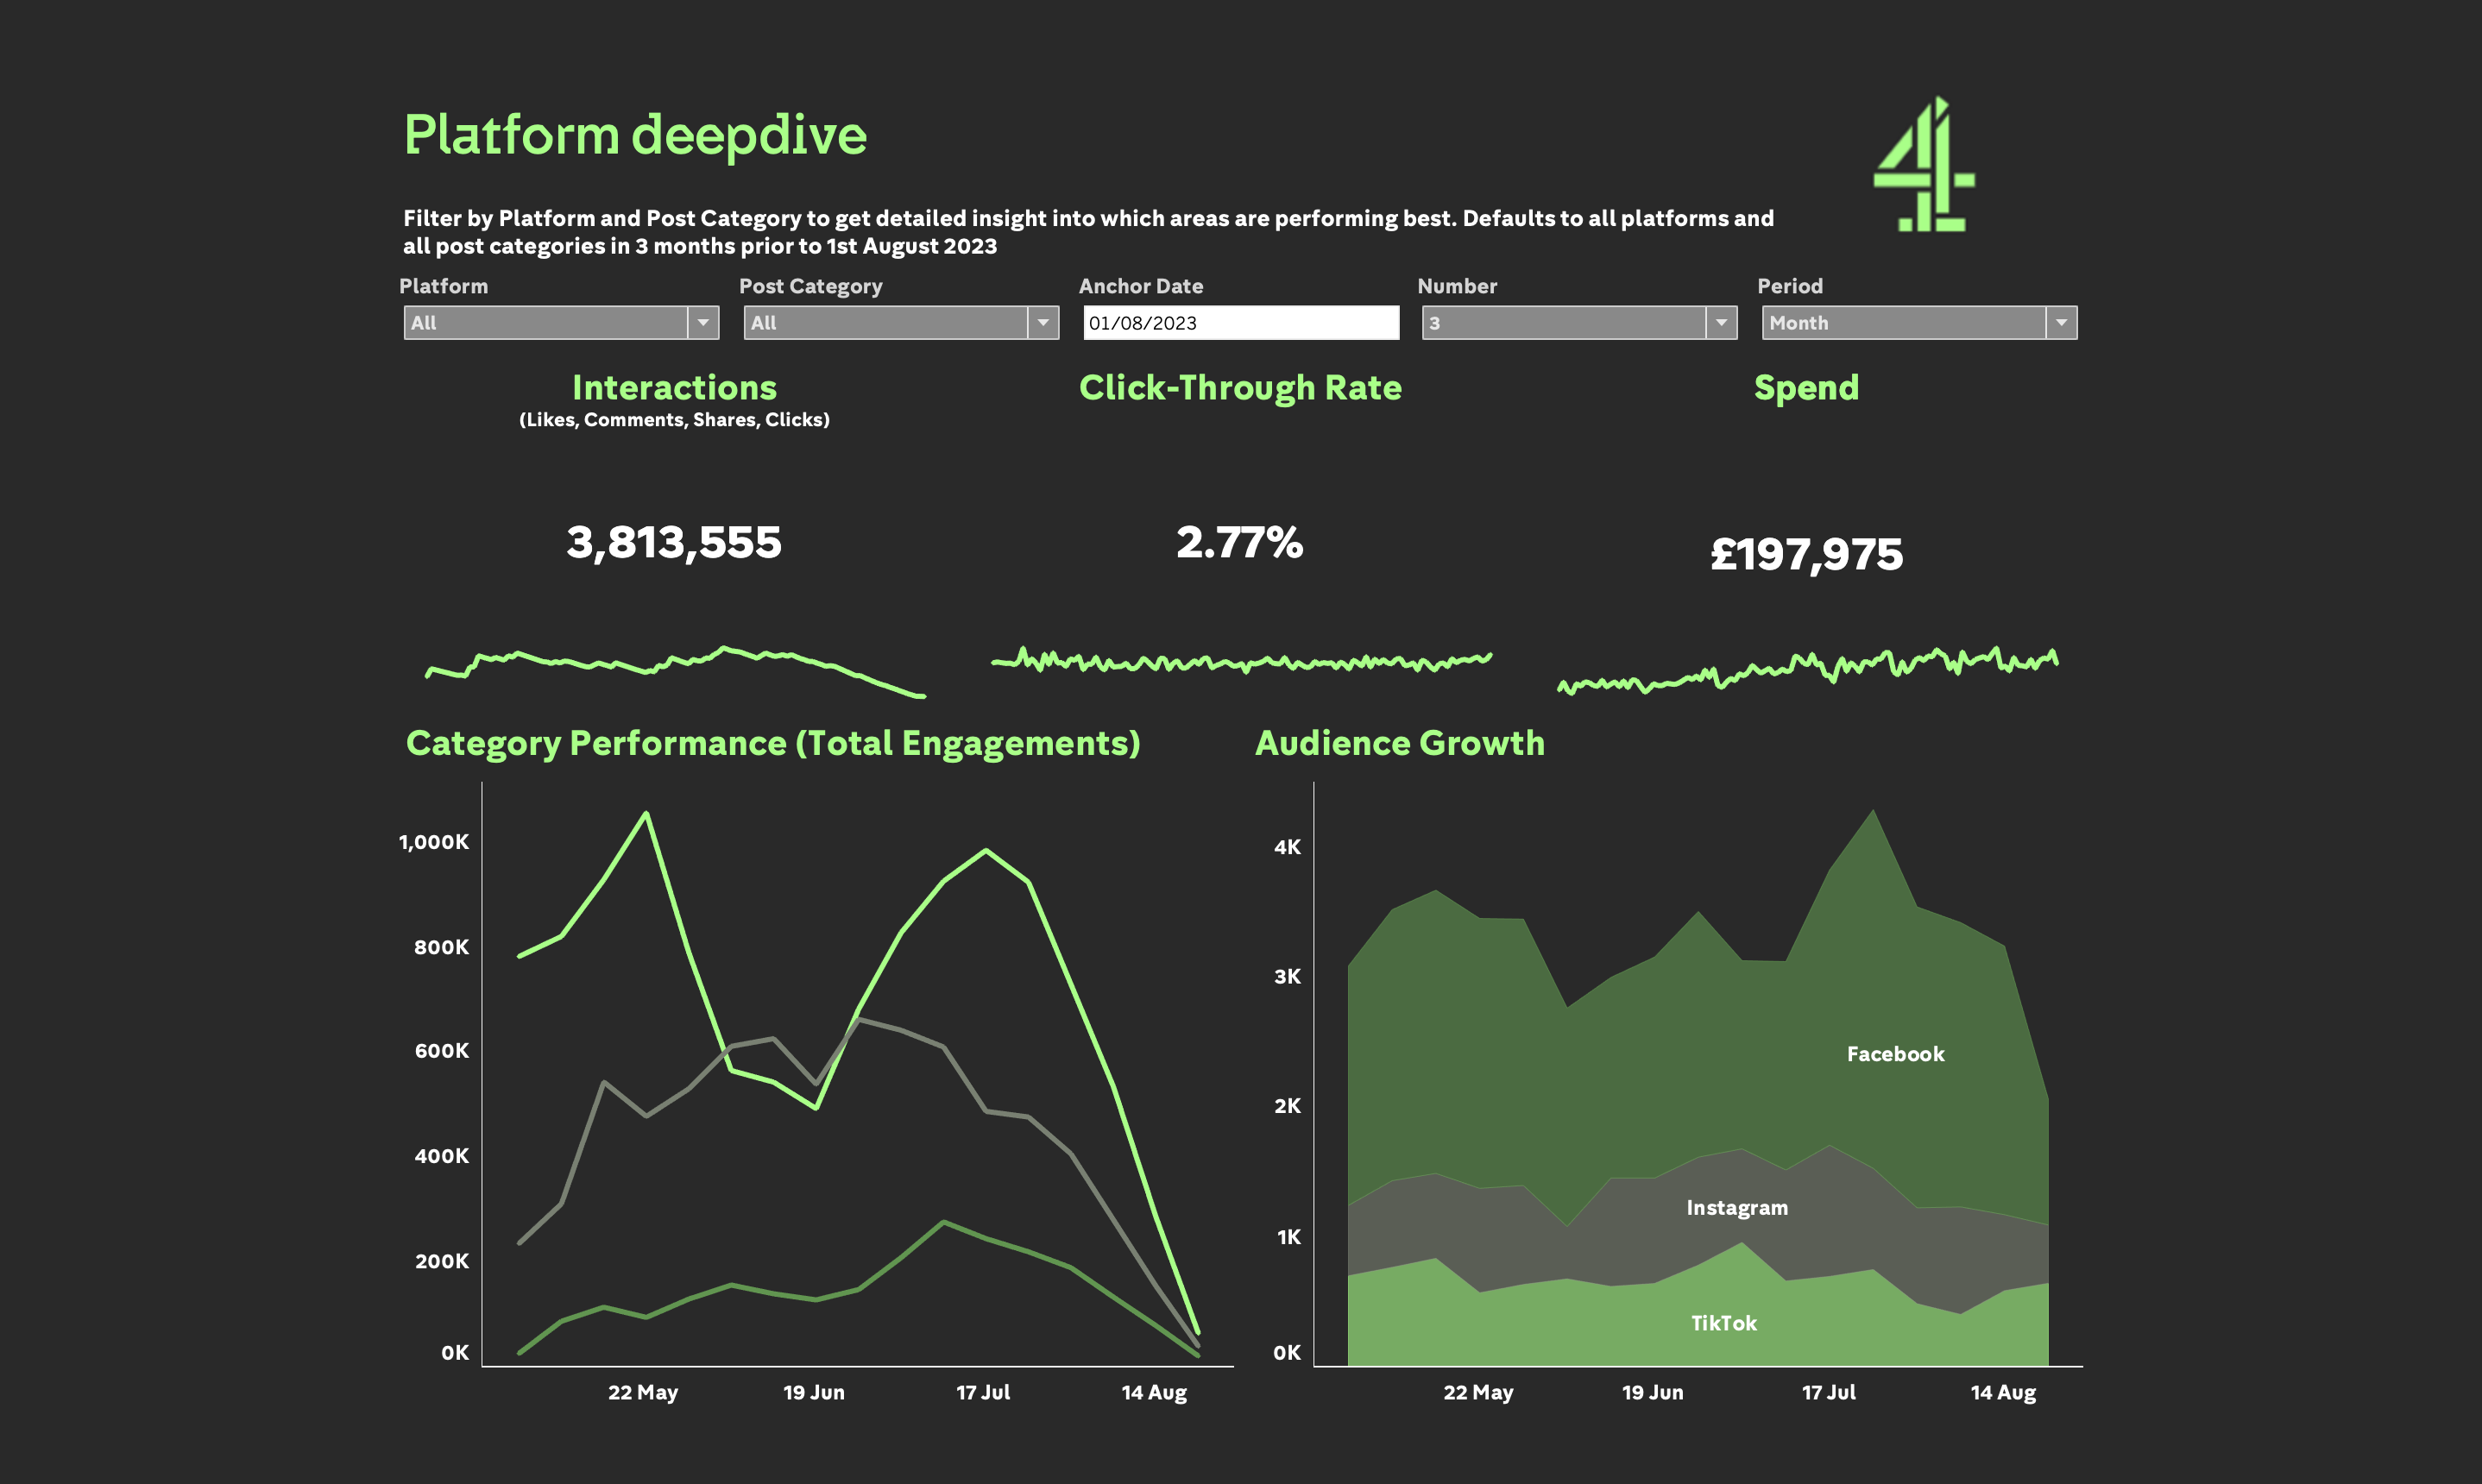

The dashboard page shown, as its layout file describes it:
{"tool":"tableau","page":{"name":"Dashboard 2","canvas":[1000,800],"ordinal":1},"visuals":[{"type":"title","box":[8,8,821,73]},{"type":"image","param":"/Users/patrick/Documents/Data Materials/Extra work/Social Media Dashboard/Screen","box":[829,8,163,112]},{"type":"text","box":[8,81,821,39]},{"type":"parameter","param":"[Parameters].[Platform Parameter]","box":[8,120,196.8,50]},{"type":"parameter","param":"[Parameters].[Parameter 1]","box":[204.8,120,196.8,50]},{"type":"parameter","param":"[Parameters].[Parameter 2]","box":[401.6,120,196.8,50]},{"type":"parameter","param":"[Parameters].[Parameter 3]","box":[598.4,120,196.8,50]},{"type":"parameter","param":"[Parameters].[Parameter 4]","box":[795.2,120,196.8,50]},{"type":"worksheet","title":"Interactions","mark":"Automatic","box":[8,170,328,164]},{"type":"worksheet","title":"Click-Through Rate","mark":"Automatic","box":[336,170,328,164]},{"type":"worksheet","title":"Spend","mark":"Automatic","box":[664,170,328,164]},{"type":"worksheet","title":"Sparkline (interactions)","mark":"Line","rows":["Calculation_2692871167140438017"],"cols":["date"],"box":[8,334,328,42]},{"type":"worksheet","title":"Sparkline (click-through rate)","mark":"Line","rows":["ctr"],"cols":["date"],"box":[336,334,328,42]},{"type":"worksheet","title":"Sparkline (spend)","mark":"Line","rows":["spend"],"cols":["date"],"box":[664,334,328,42]},{"type":"worksheet","title":"Category Performance (Total Engagements)","mark":"Automatic","rows":["Calculation_1504061602633113600"],"cols":["date"],"box":[8,376,492,416]},{"type":"worksheet","title":"Audience Growth","mark":"Area","rows":["new_users"],"cols":["date"],"box":[500,376,492,416]}]}

Visuals, with their boxes on the page's 1000x800 design canvas (x1, y1, x2, y2). These are canvas units, not pixel positions in the 2482x1484 screenshot, which may show the page scaled, cropped or inside an application window:
title: 8, 8, 829, 81
image: 829, 8, 992, 120
text: 8, 81, 829, 120
parameter: 8, 120, 205, 170
parameter: 205, 120, 402, 170
parameter: 402, 120, 598, 170
parameter: 598, 120, 795, 170
parameter: 795, 120, 992, 170
"Interactions" worksheet: 8, 170, 336, 334
"Click-Through Rate" worksheet: 336, 170, 664, 334
"Spend" worksheet: 664, 170, 992, 334
"Sparkline (interactions)" worksheet (Line marks): 8, 334, 336, 376
"Sparkline (click-through rate)" worksheet (Line marks): 336, 334, 664, 376
"Sparkline (spend)" worksheet (Line marks): 664, 334, 992, 376
"Category Performance (Total Engagements)" worksheet: 8, 376, 500, 792
"Audience Growth" worksheet (Area marks): 500, 376, 992, 792
